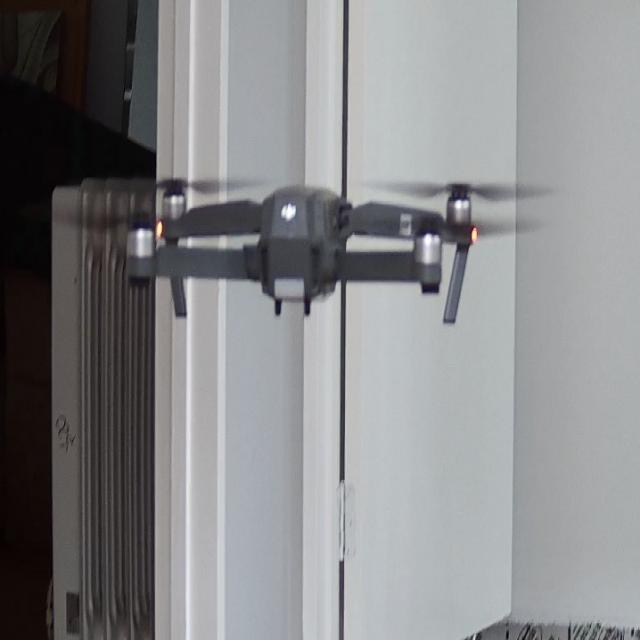drone: (31, 115, 555, 352)
